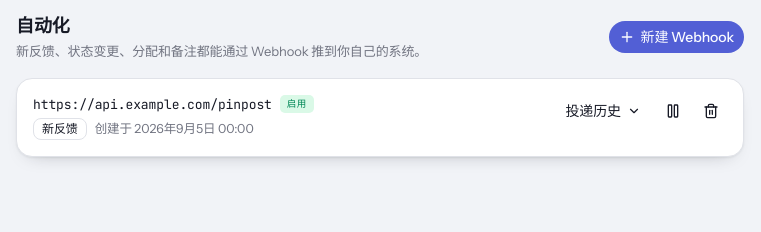
Scenario: WebhookManager › loads delivery history and offers replay
Expected: the text "https://api.example.com/pinpost" is shown, [33, 94, 272, 114]
Click the button "投递历史" at (603, 110), box [555, 94, 651, 126]
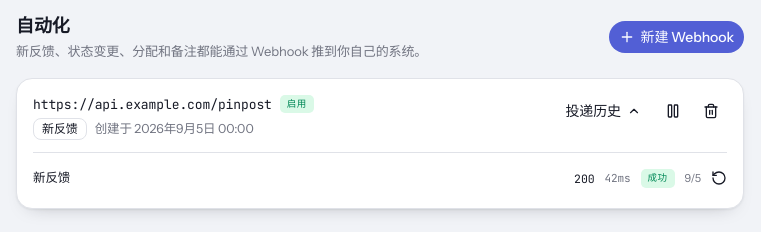
Expected: the text "成功" is shown, [640, 169, 674, 188]
Expected: the button named "重新投递" is shown, [711, 170, 727, 186]
